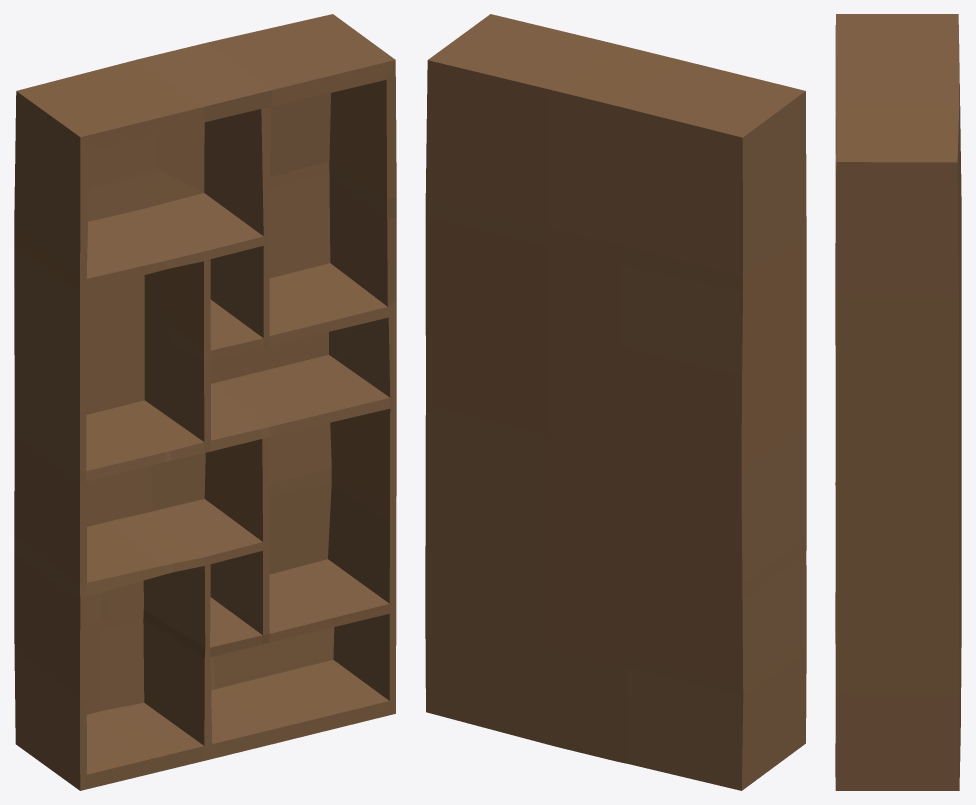
File: Bookshelf.fbx
The picture shows the model from 3 angles, left to right: view 1: azimuth 30°, elevation 25°; view 2: azimuth 150°, elevation 25°; view 3: azimuth 270°, elevation 25°; orthographic projection. The views are drawn at different scales.
Parts seen in each view (by area): view 1: Bookshelf_LP; view 2: Bookshelf_LP; view 3: Bookshelf_LP.
Boxes of the visible parts, x1,y1,x2,y2 form: Bookshelf_LP: (14, 14, 396, 790); Bookshelf_LP: (425, 14, 806, 790); Bookshelf_LP: (835, 14, 961, 790).
Bounding box in the file's own units: 91.4 × 180 × 32.58.
